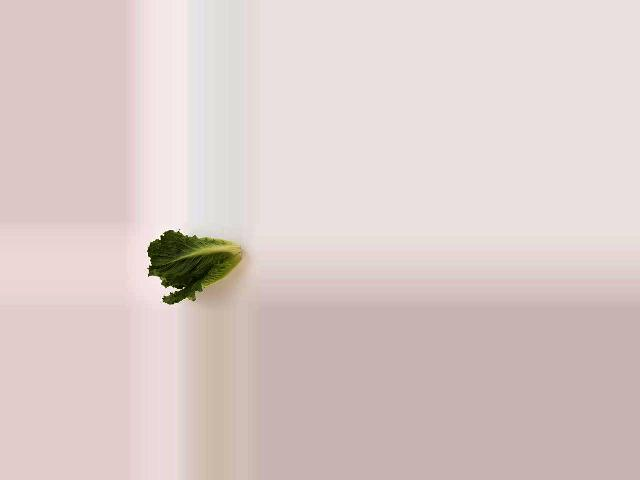lettuce: (144, 228, 253, 300)
